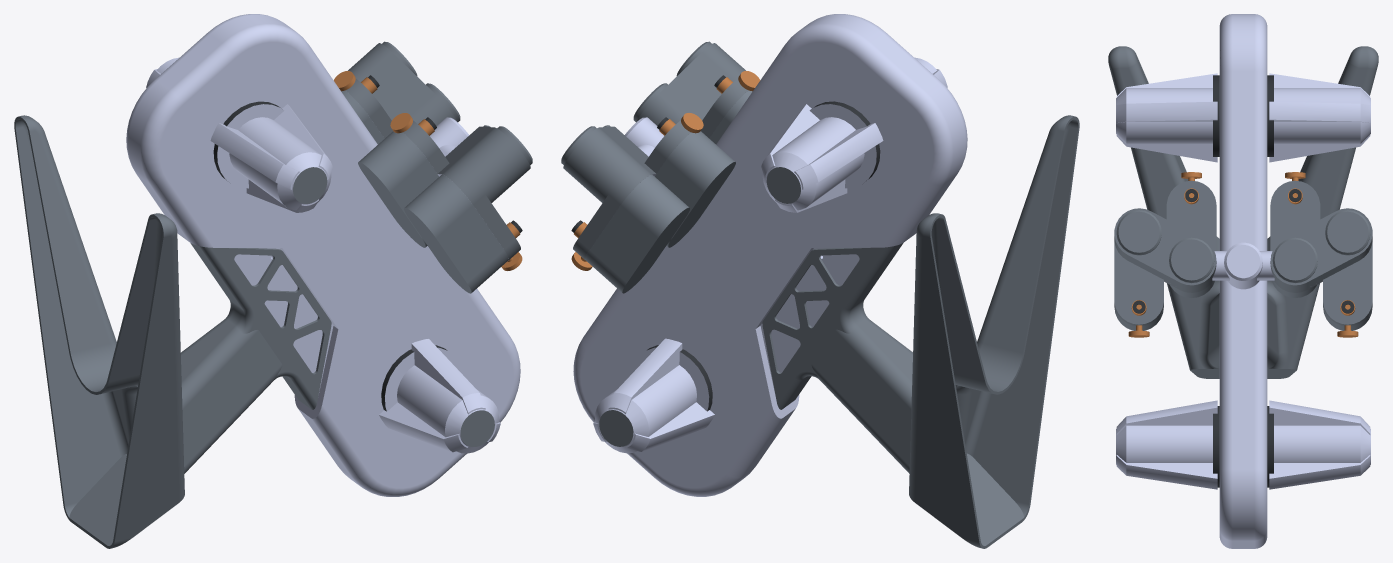
Rendered from PrinterA1miniAMS.fbx.
3 views of the same model, side by side, from view 1: azimuth 30°, elevation 25°; view 2: azimuth 150°, elevation 25°; view 3: azimuth 270°, elevation 25° (orthographic). The views are drawn at different scales.
Parts seen in each view (by area): view 1: BAMBULAB_AMA_LITE.stp-1 - Part, BAMBULAB_AMS_LITE_FUS.stp-1 - Part, BAMBULAB_AMA_LITEstp-1 - Part 4, BAMBULAB_AMA_LITEstp-1 - Part 5, BAMBULAB_AMA_LITEstp-1 - Part 3, BAMBULAB_AMA_LITEstp-1 - Part 2; view 2: BAMBULAB_AMA_LITE.stp-1 - Part, BAMBULAB_AMS_LITE_FUS.stp-1 - Part, BAMBULAB_AMA_LITEstp-1 - Part 4, BAMBULAB_AMA_LITEstp-1 - Part 5, BAMBULAB_AMA_LITEstp-1 - Part 3, BAMBULAB_AMA_LITEstp-1 - Part 2; view 3: BAMBULAB_AMA_LITE.stp-1 - Part, BAMBULAB_AMA_LITEstp-1 - Part 4, BAMBULAB_AMS_LITE_FUS.stp-1 - Part, BAMBULAB_AMA_LITEstp-1 - Part 2, BAMBULAB_AMA_LITEstp-1 - Part 3, BAMBULAB_AMA_LITEstp-1 - Part 5.
Boxes of the visible parts, x1,y1,x2,y2 form: BAMBULAB_AMA_LITE.stp-1 - Part: (126, 14, 520, 496); BAMBULAB_AMS_LITE_FUS.stp-1 - Part: (14, 115, 331, 548); BAMBULAB_AMA_LITEstp-1 - Part 4: (293, 41, 532, 446); BAMBULAB_AMA_LITEstp-1 - Part 5: (341, 90, 508, 293); BAMBULAB_AMA_LITEstp-1 - Part 3: (334, 71, 522, 270); BAMBULAB_AMA_LITEstp-1 - Part 2: (213, 75, 522, 411); BAMBULAB_AMA_LITE.stp-1 - Part: (573, 14, 967, 496); BAMBULAB_AMS_LITE_FUS.stp-1 - Part: (762, 115, 1079, 548); BAMBULAB_AMA_LITEstp-1 - Part 4: (561, 41, 800, 446); BAMBULAB_AMA_LITEstp-1 - Part 5: (585, 90, 752, 293); BAMBULAB_AMA_LITEstp-1 - Part 3: (571, 71, 760, 270); BAMBULAB_AMA_LITEstp-1 - Part 2: (571, 75, 880, 411); BAMBULAB_AMA_LITE.stp-1 - Part: (1116, 14, 1370, 548); BAMBULAB_AMA_LITEstp-1 - Part 4: (1114, 180, 1372, 325); BAMBULAB_AMS_LITE_FUS.stp-1 - Part: (1108, 46, 1378, 378); BAMBULAB_AMA_LITEstp-1 - Part 2: (1132, 75, 1354, 487); BAMBULAB_AMA_LITEstp-1 - Part 3: (1128, 172, 1358, 337); BAMBULAB_AMA_LITEstp-1 - Part 5: (1114, 280, 1372, 330).
Bounding box in the file's own units: 34.2 × 39 × 20.91.
